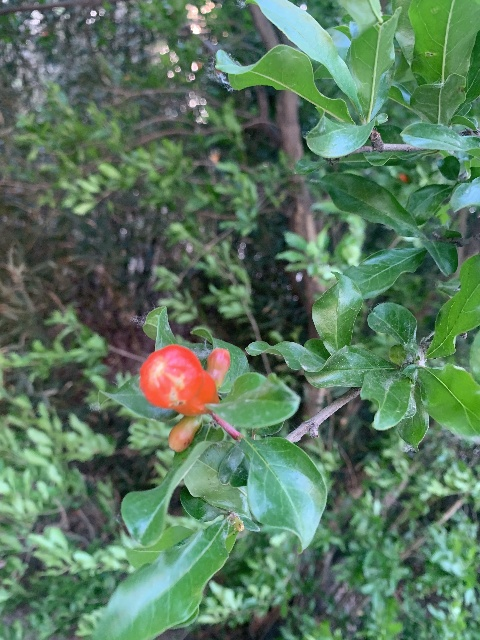bud: (139, 344, 217, 416), (168, 416, 200, 452), (206, 347, 230, 386)
